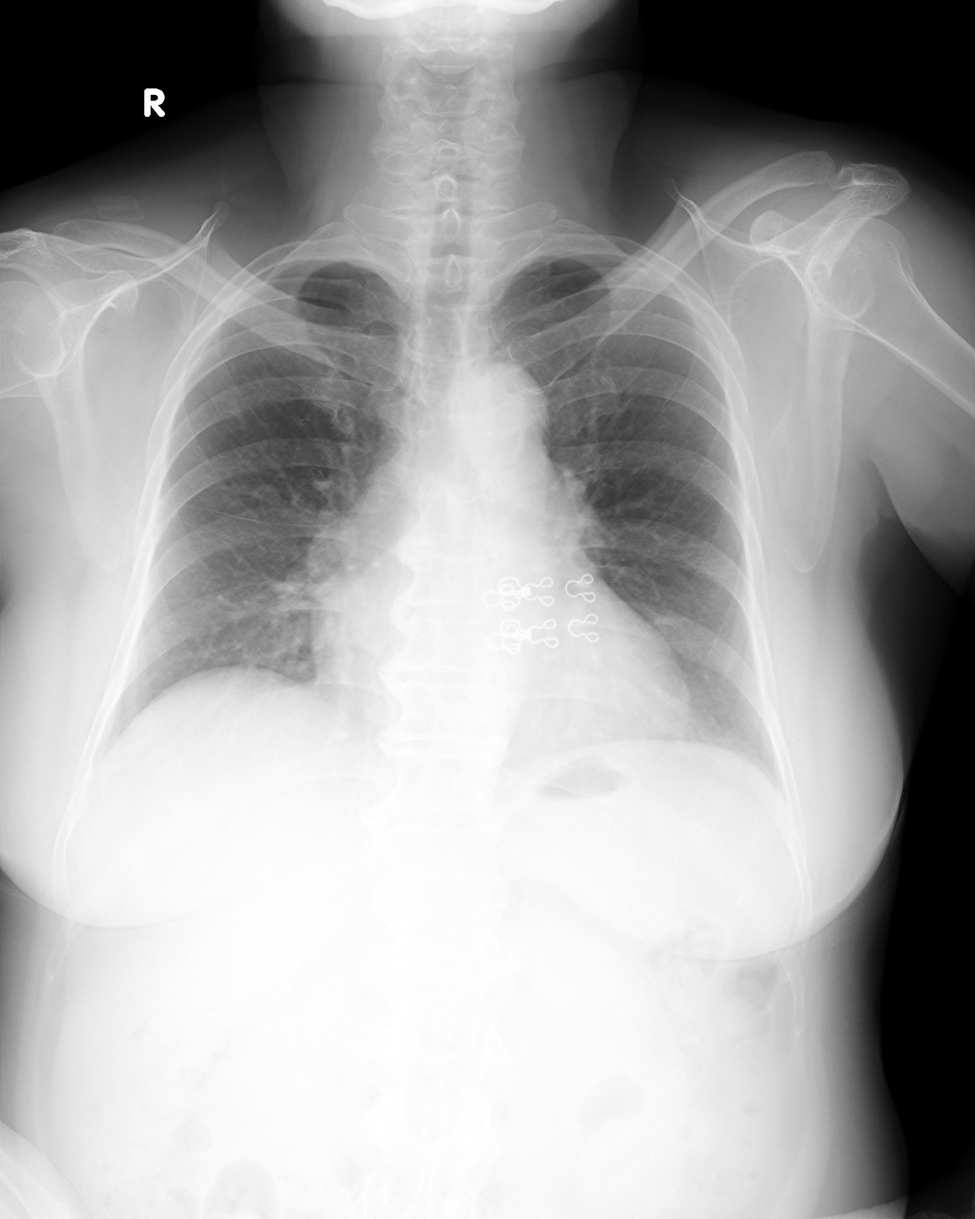Aortic enlargement: (460, 366, 545, 436)
Cardiomegaly: (303, 623, 697, 734)
